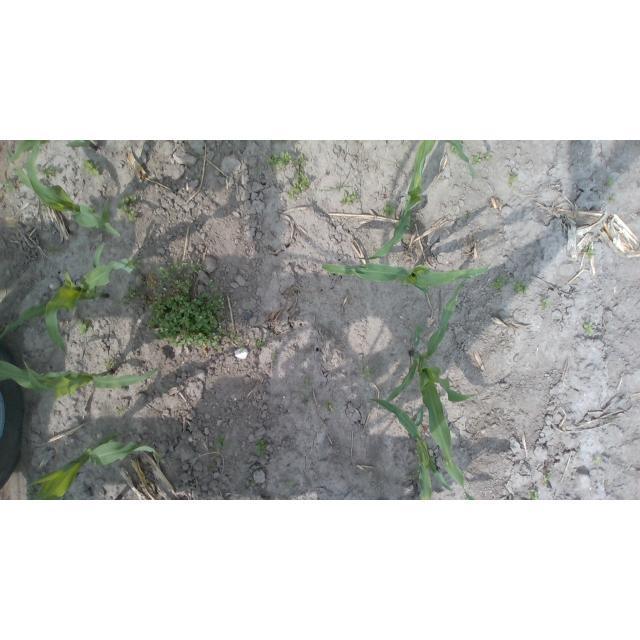Maize: (384, 278, 477, 500), (0, 244, 134, 357), (14, 140, 119, 238), (355, 140, 435, 260), (28, 433, 167, 500), (368, 398, 452, 500), (1, 359, 160, 408), (322, 262, 492, 295), (7, 141, 98, 164), (443, 140, 475, 182)
Weeds: (148, 286, 228, 351), (157, 259, 187, 286), (116, 191, 137, 223), (288, 171, 312, 199), (121, 283, 141, 308), (268, 151, 293, 169), (121, 257, 142, 274), (83, 160, 102, 177), (35, 164, 58, 178), (228, 331, 244, 349), (511, 280, 529, 296), (339, 190, 358, 205), (492, 275, 509, 291), (3, 178, 21, 193), (174, 278, 192, 293), (213, 433, 227, 452), (254, 439, 267, 459), (187, 260, 203, 275), (382, 203, 397, 218), (293, 154, 307, 169), (5, 148, 16, 164), (581, 245, 594, 258), (528, 486, 540, 500), (507, 173, 518, 188), (77, 323, 89, 336), (256, 337, 269, 349), (47, 244, 59, 256), (324, 400, 336, 412), (145, 277, 156, 289), (208, 278, 218, 291), (583, 322, 593, 334), (361, 366, 371, 378), (540, 297, 550, 308), (104, 360, 116, 369), (39, 201, 49, 211), (27, 485, 36, 496), (107, 431, 123, 437), (299, 380, 309, 389), (471, 155, 481, 164), (483, 152, 493, 161), (544, 473, 552, 483), (607, 178, 614, 189), (302, 396, 309, 407), (410, 469, 416, 481), (594, 456, 601, 466), (451, 144, 458, 154), (336, 184, 344, 191), (249, 478, 256, 485), (608, 195, 615, 201), (287, 481, 293, 488), (463, 212, 469, 218), (272, 354, 277, 360), (119, 408, 124, 413), (65, 496, 71, 500)
